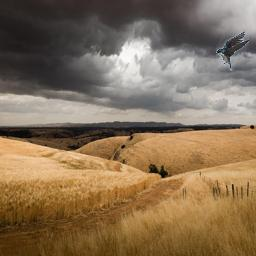Swallow: (216, 31, 249, 71)
